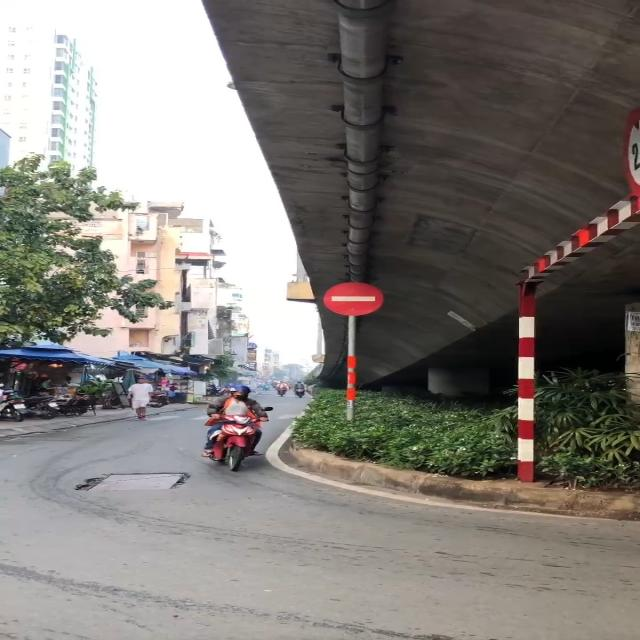Bien bao cam di nguoc chieu: (318, 276, 389, 319)
